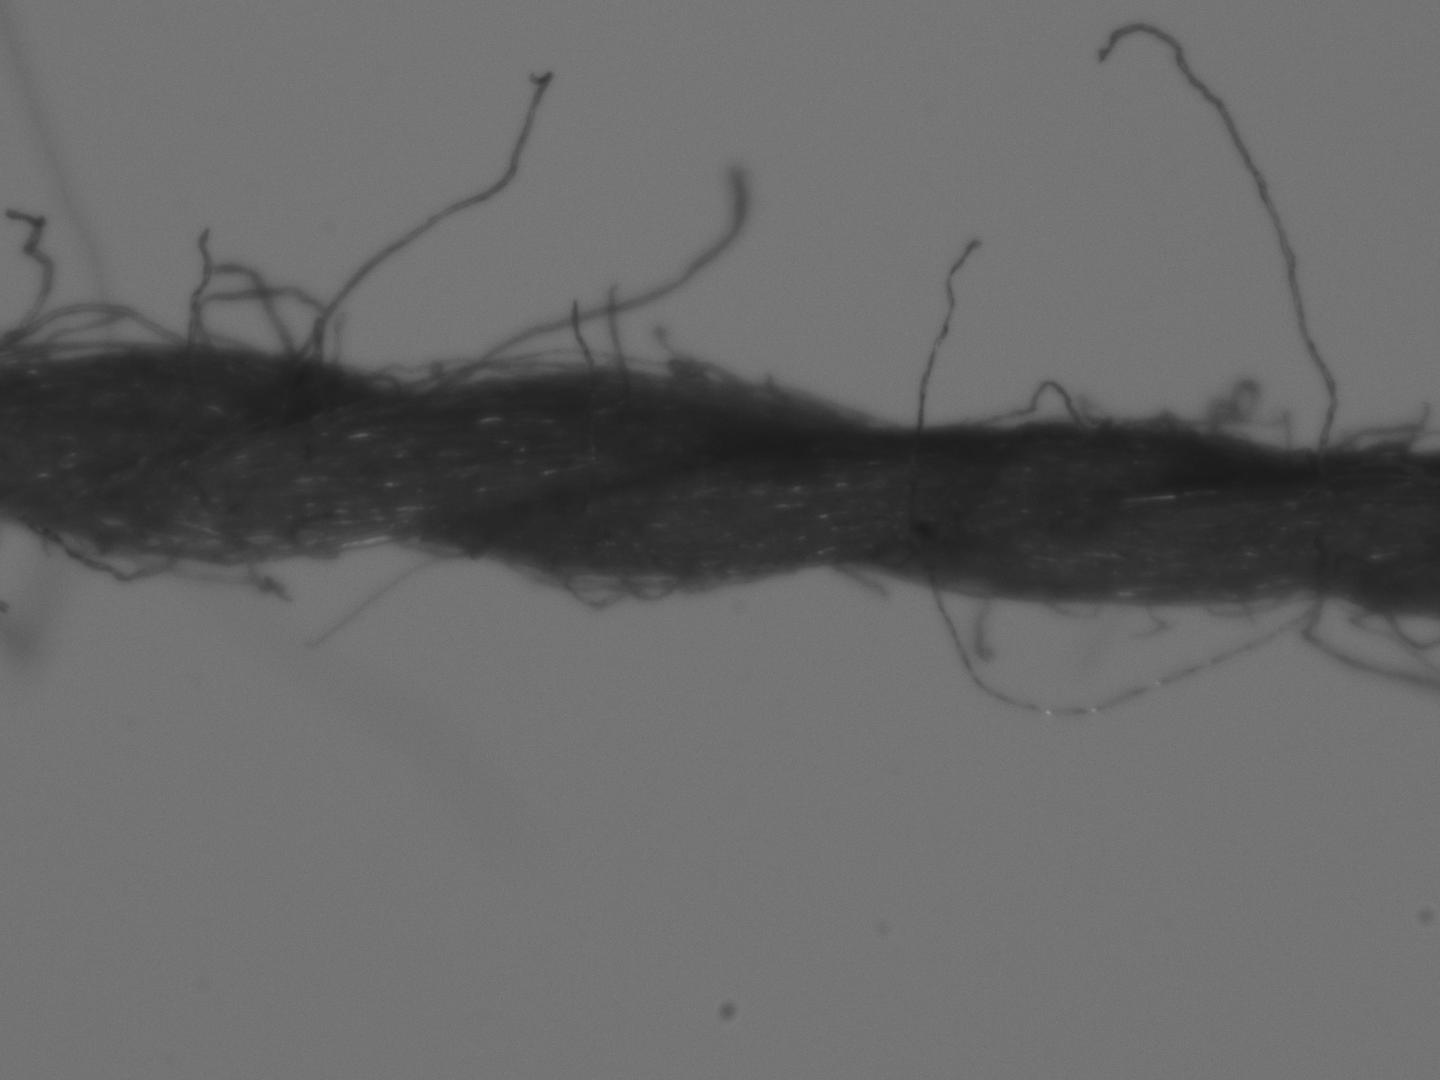loop_fiber: (916, 568, 1332, 718), (939, 378, 1305, 459), (16, 520, 294, 605), (184, 231, 340, 371), (1307, 584, 1439, 686), (1, 303, 196, 355)
protruding_fiber: (1086, 17, 1344, 458), (295, 66, 556, 368), (417, 153, 752, 386), (288, 549, 482, 652), (909, 231, 988, 437), (0, 201, 59, 352), (607, 277, 634, 376), (567, 290, 594, 378)
